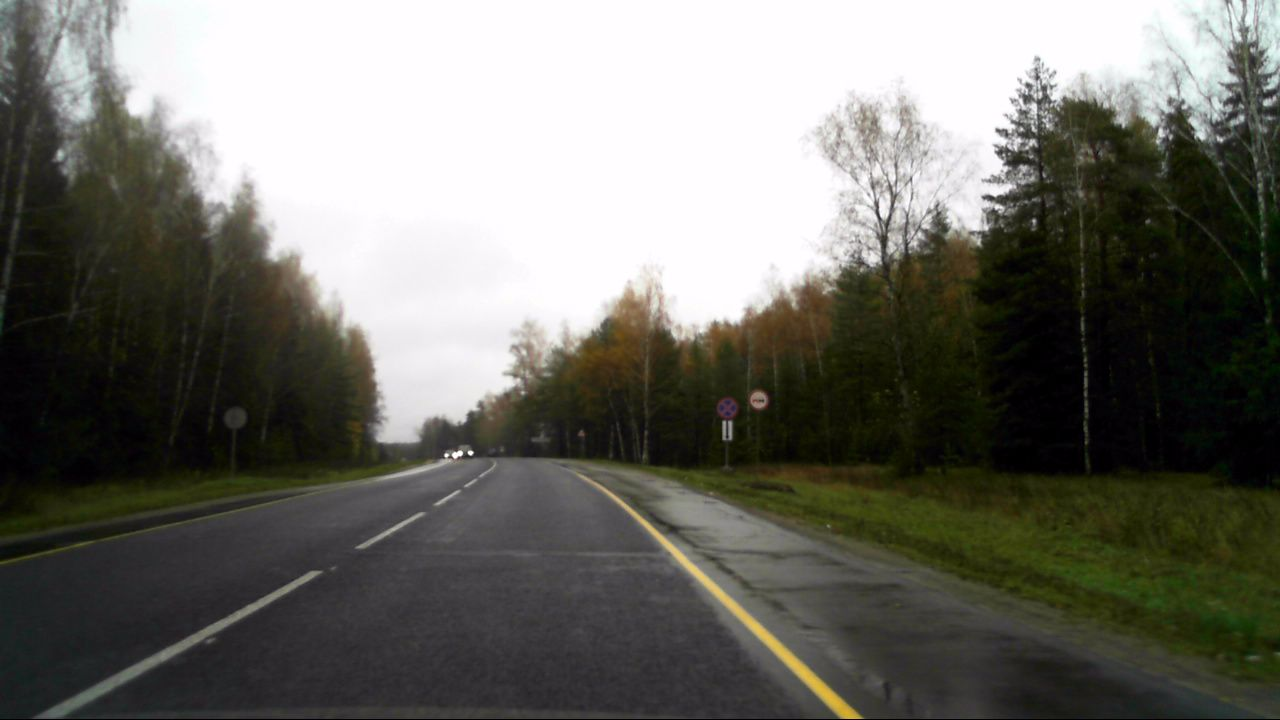No Parking: (714, 394, 737, 419)
